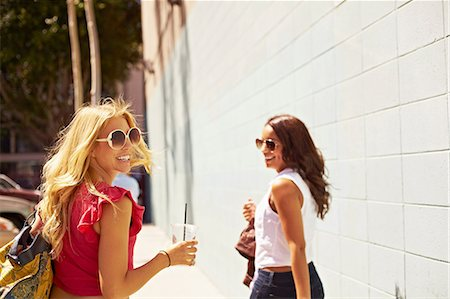face: (81, 102, 139, 174), (251, 111, 314, 168)
